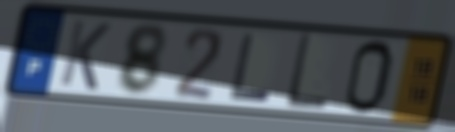0: (342, 38, 398, 116)
2: (170, 27, 224, 103)
8: (115, 20, 171, 98)
K: (56, 17, 114, 93)
L: (282, 31, 330, 113), (227, 32, 274, 105)
